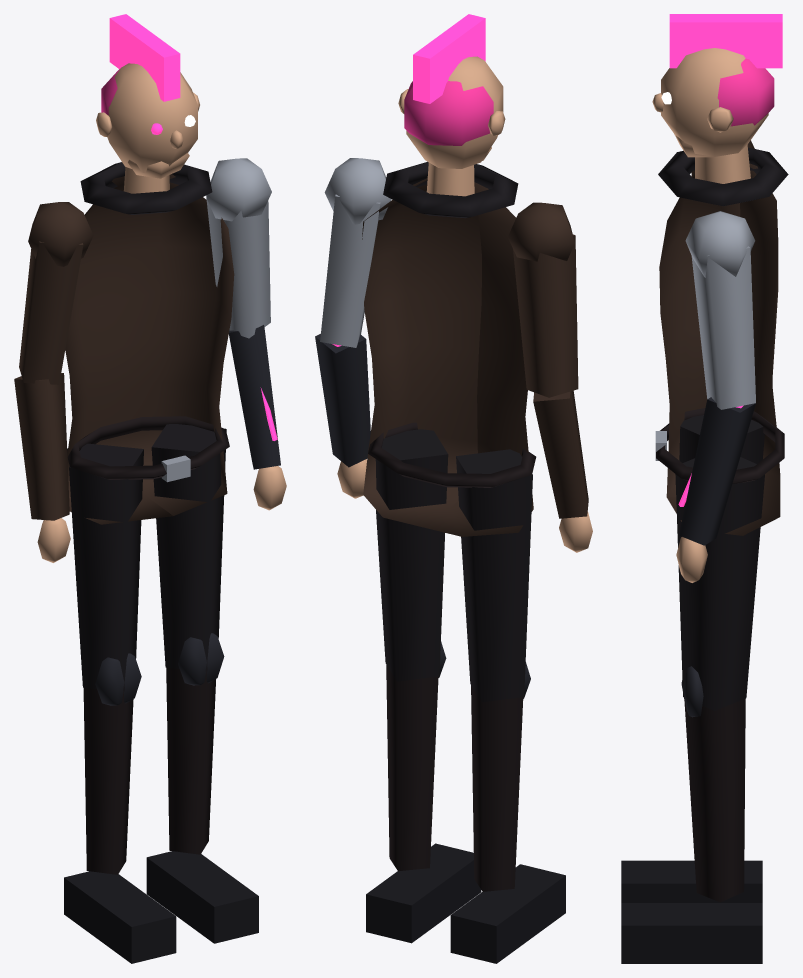
The model's file is person_cyborg_lo.glb.
3 views of the same model, side by side, from view 1: azimuth 30°, elevation 25°; view 2: azimuth 150°, elevation 25°; view 3: azimuth 270°, elevation 25° (orthographic). The views are drawn at different scales.
Parts seen in each view (by area): view 1: cloth_a (×2), cloth_b (×3), leather (×3), shoe (×2), skin (×3), metal_light (×2), metal_dark (×3), neon_magenta; view 2: cloth_a (×2), cloth_b (×3), leather (×3), shoe (×2), metal_light, skin (×3), metal_dark, hair, neon_magenta; view 3: cloth_b (×3), cloth_a, shoe (×2), leather (×2), metal_light, skin (×2), metal_dark (×2), neon_magenta, hair.
Boxes of the visible parts, bbox=[...] form: cloth_a (×2): bbox=[14, 174, 234, 524]; cloth_b (×3): bbox=[69, 162, 226, 691]; leather (×3): bbox=[67, 416, 229, 874]; shoe (×2): bbox=[64, 851, 258, 963]; skin (×3): bbox=[37, 63, 286, 562]; metal_light (×2): bbox=[161, 158, 271, 482]; metal_dark (×3): bbox=[95, 325, 280, 705]; neon_magenta: bbox=[109, 14, 180, 134]; cloth_a (×2): bbox=[362, 178, 588, 536]; cloth_b (×3): bbox=[375, 161, 532, 702]; leather (×3): bbox=[368, 422, 536, 891]; shoe (×2): bbox=[366, 843, 565, 963]; metal_light: bbox=[320, 158, 391, 347]; skin (×3): bbox=[337, 56, 592, 552]; metal_dark: bbox=[315, 333, 370, 467]; hair: bbox=[404, 81, 493, 145]; neon_magenta: bbox=[413, 14, 485, 103]; cloth_b (×3): bbox=[658, 147, 788, 710]; cloth_a: bbox=[659, 163, 780, 535]; shoe (×2): bbox=[621, 860, 762, 963]; leather (×2): bbox=[656, 408, 784, 902]; metal_light: bbox=[685, 211, 755, 409]; skin (×2): bbox=[652, 48, 768, 582]; metal_dark (×2): bbox=[679, 397, 755, 717]; neon_magenta: bbox=[669, 14, 782, 68]; hair: bbox=[717, 58, 774, 126].
Size of the model in its own units: 0.529 by 1.78 by 0.2955.
